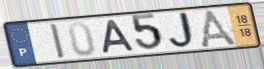0: (67, 20, 97, 58)
5: (129, 13, 166, 54)
A: (197, 8, 240, 48), (102, 19, 138, 56)
I: (48, 21, 68, 60)
J: (167, 10, 200, 51)
